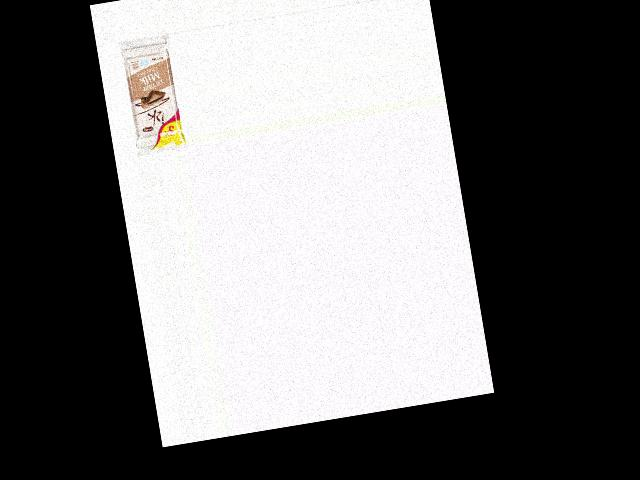chocolate: (119, 44, 187, 156)
